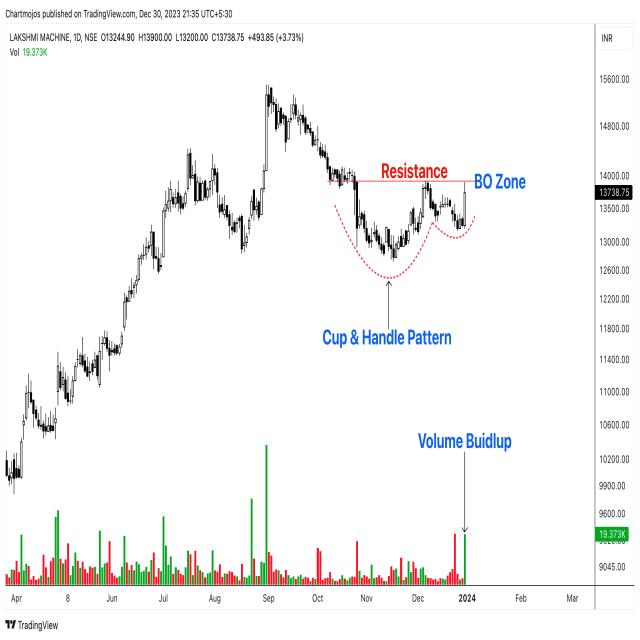Cup-and-handle: (330, 177, 473, 286)
